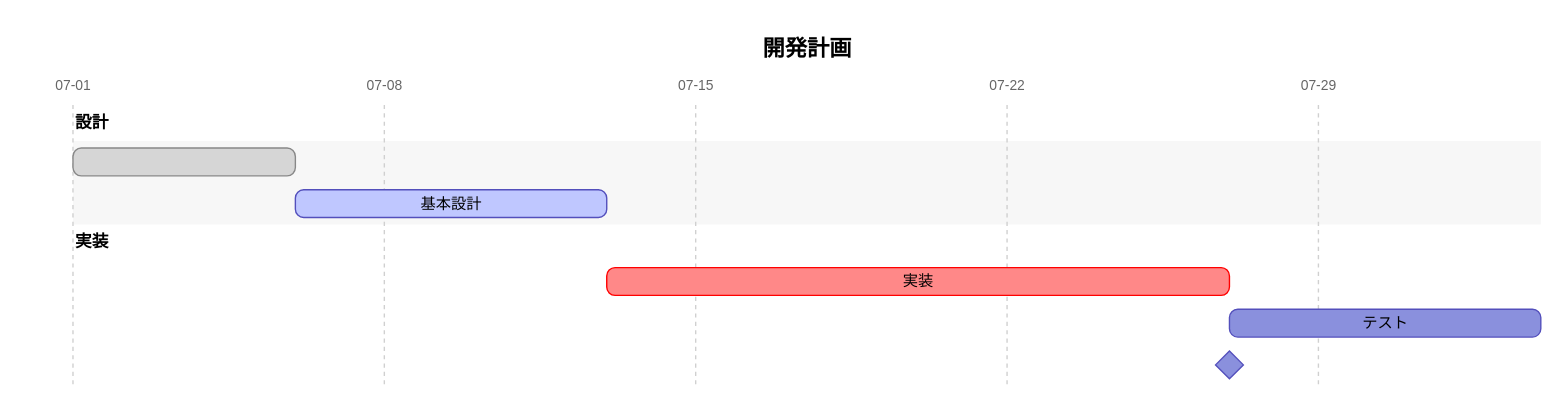
Some shapes in this 1565 by 411 pixel diagram are drawn without their labels. The centre of each missing label's shape, as x and y in pixels:
リリース: point 1228,364
要件定義: point 183,161
